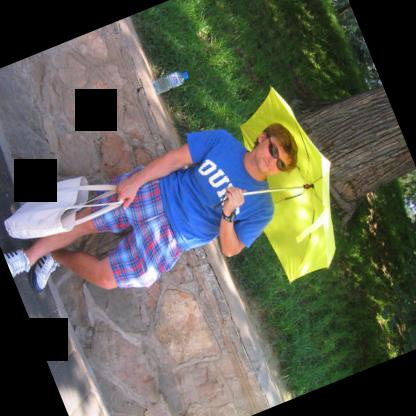handbag: (2, 175, 121, 239)
